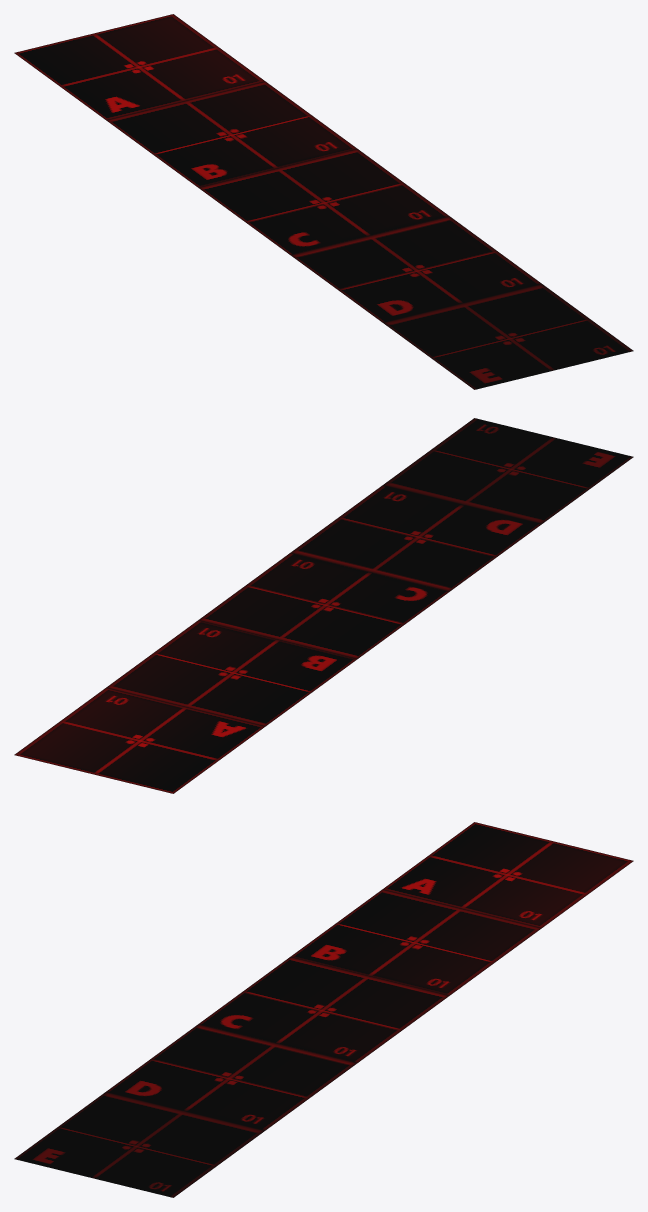
The model's file is animatedQuad.glb.
The picture shows the model from 3 angles, top to bottom: view 1: azimuth 30°, elevation 25°; view 2: azimuth 150°, elevation 25°; view 3: azimuth 330°, elevation 25°; orthographic projection.
Visible parts, largest first — view 1: animatedQuad; view 2: animatedQuad; view 3: animatedQuad.
Boxes of the visible parts, x1,y1,x2,y2 form: animatedQuad: (14,14,633,389); animatedQuad: (14,418,633,793); animatedQuad: (14,822,633,1197).
Size of the model in its own units: 1 by 0 by 5.
Materials: 1 (1 with a texture image).
